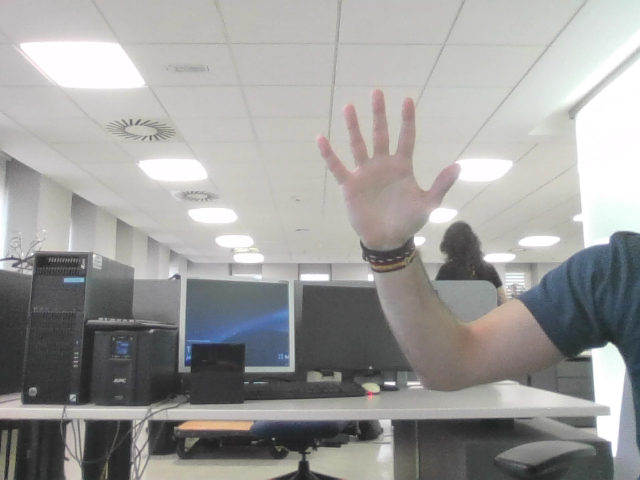Mano Abierta: (326, 101, 446, 218)
